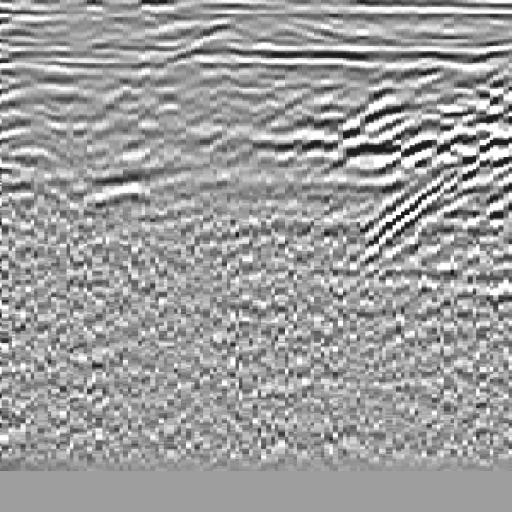metalic: (64, 51, 181, 236)
nonmetalic: (392, 51, 512, 279)
